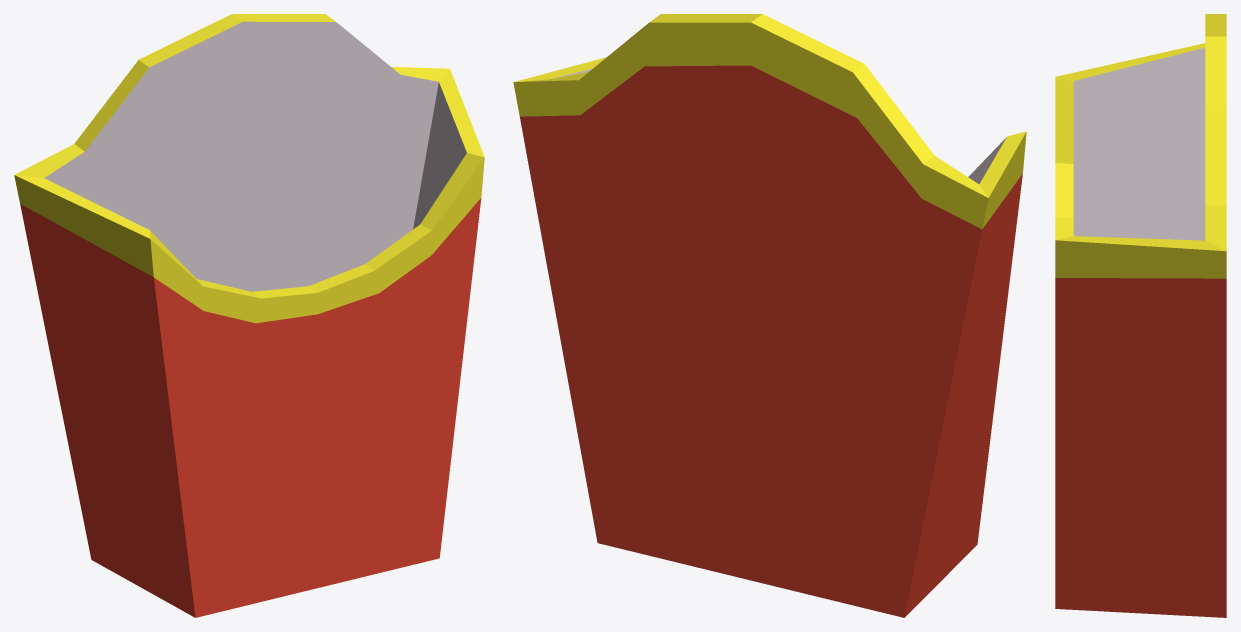
Rendered from French Fries Empty box C.obj.
The picture shows the model from 3 angles, left to right: view 1: azimuth 30°, elevation 25°; view 2: azimuth 150°, elevation 25°; view 3: azimuth 270°, elevation 25°; orthographic projection. The views are drawn at different scales.
Visible parts, largest first — view 1: French Fries Empty box C_0; view 2: French Fries Empty box C_0; view 3: French Fries Empty box C_0.
Part boxes in pixels (left/top/right/bottom): French Fries Empty box C_0: left=14, top=14, right=484, bottom=617; French Fries Empty box C_0: left=513, top=14, right=1026, bottom=617; French Fries Empty box C_0: left=1055, top=14, right=1226, bottom=617.
Size of the model in its own units: 0.4497 by 0.5045 by 0.1529.
Materials: 1 (1 with a texture image).
